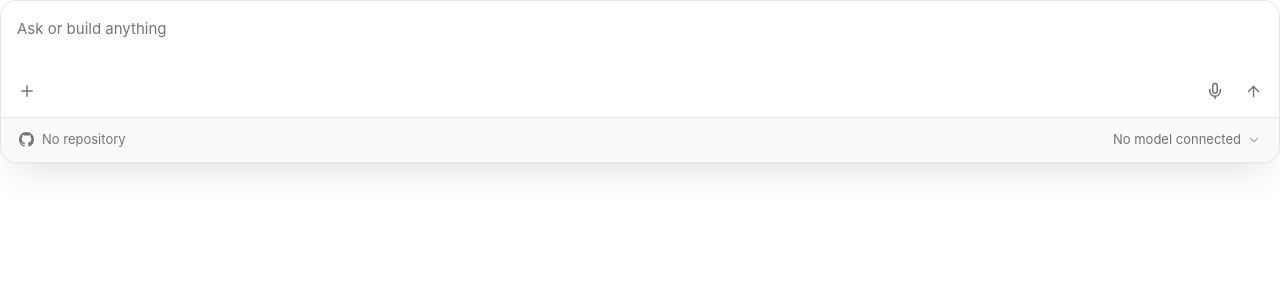
Test case: Composer › Skip required checks › shows the toggle as on in the menu while the skip is set
Press the mouse on the button named "Add" at (27, 91), box 11,75 -> 43,107
Click the button named "Add" at (27, 91), box 11,75 -> 43,107
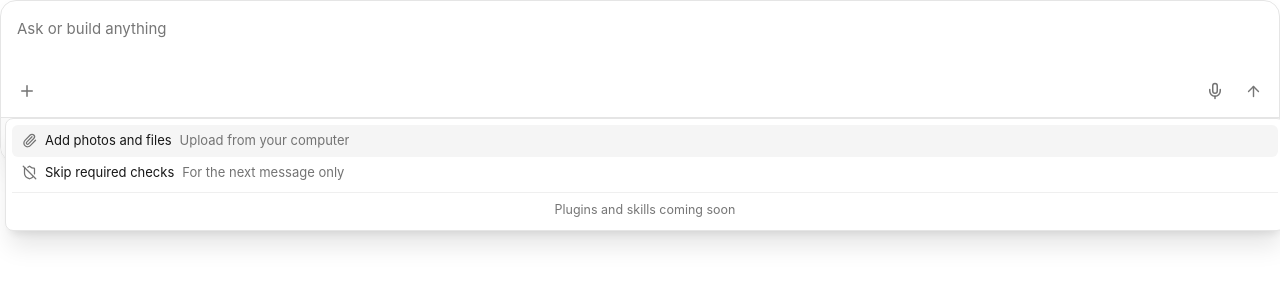
Press the mouse on the menu item "Skip required checks For the next message only" at (183, 172), box 22,164 -> 344,180
Click the menu item "Skip required checks For the next message only" at (183, 172), box 22,164 -> 344,180
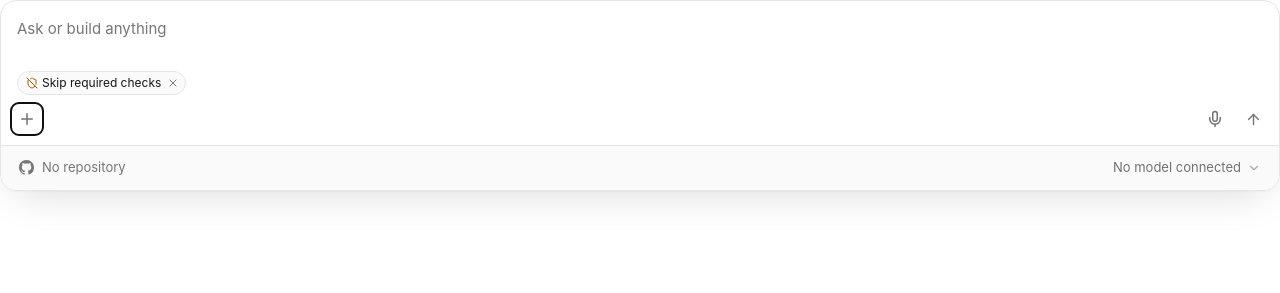
Result: the element with test id "composer-skip-chip" is shown at 17,71 -> 186,95
Press the mouse on the button named "Add" at (27, 119), box 11,103 -> 43,135
Click the button named "Add" at (27, 119), box 11,103 -> 43,135
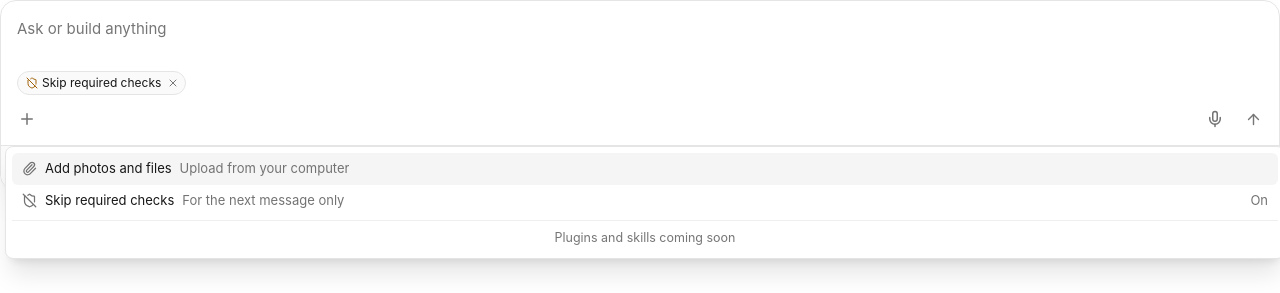
Result: the menu item "Skip required checks For the next message only On" is shown at 22,192 -> 1268,208
